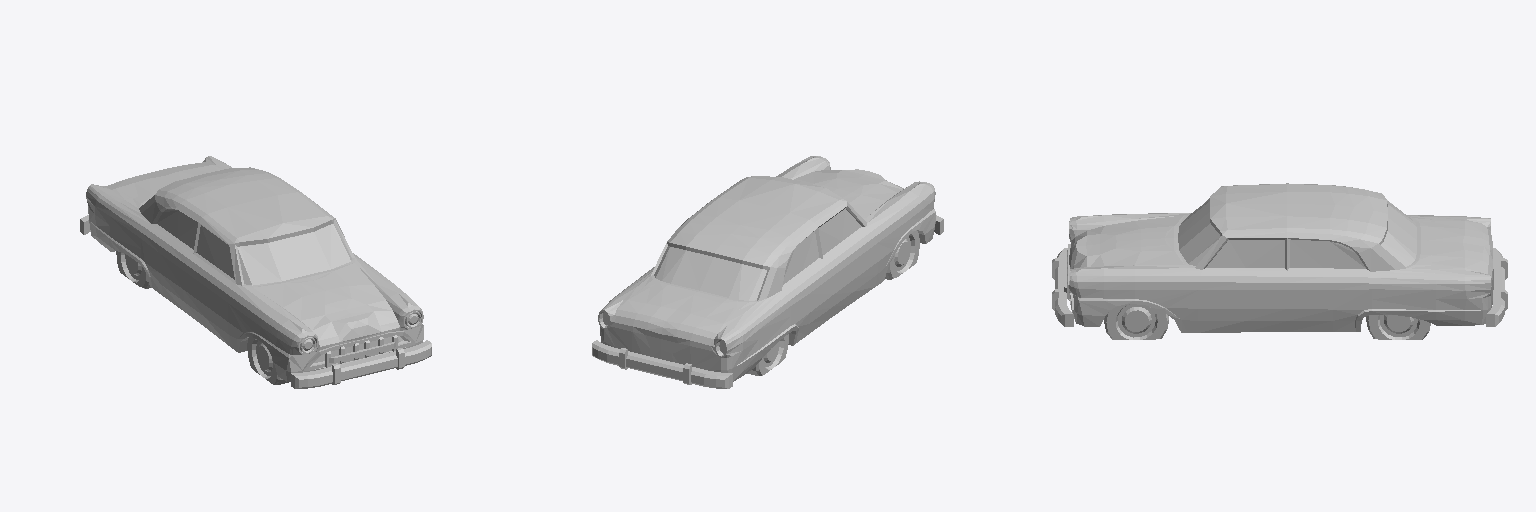
File: car.obj
The picture shows the model from 3 angles: view 1: azimuth 30°, elevation 25°; view 2: azimuth 150°, elevation 25°; view 3: azimuth 270°, elevation 25°; orthographic projection.
Parts seen in each view (by area): view 1: mesh; view 2: mesh; view 3: mesh.
Boxes of the visible parts, <box> form: mesh: <box>80,156,431,388</box>; mesh: <box>592,156,943,388</box>; mesh: <box>1052,183,1507,339</box>.
Bounding box in the file's own units: 0.9154 × 0.6478 × 2.55.